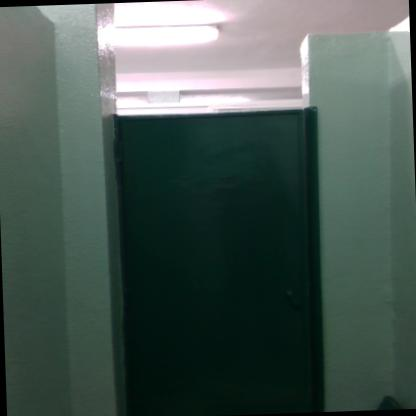closed: (86, 70, 344, 412)
